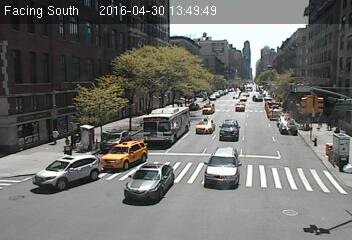neg: (216, 130, 245, 168), (165, 99, 192, 136), (327, 134, 349, 164), (284, 147, 305, 176)
pos: (48, 127, 61, 144), (61, 134, 73, 150)
